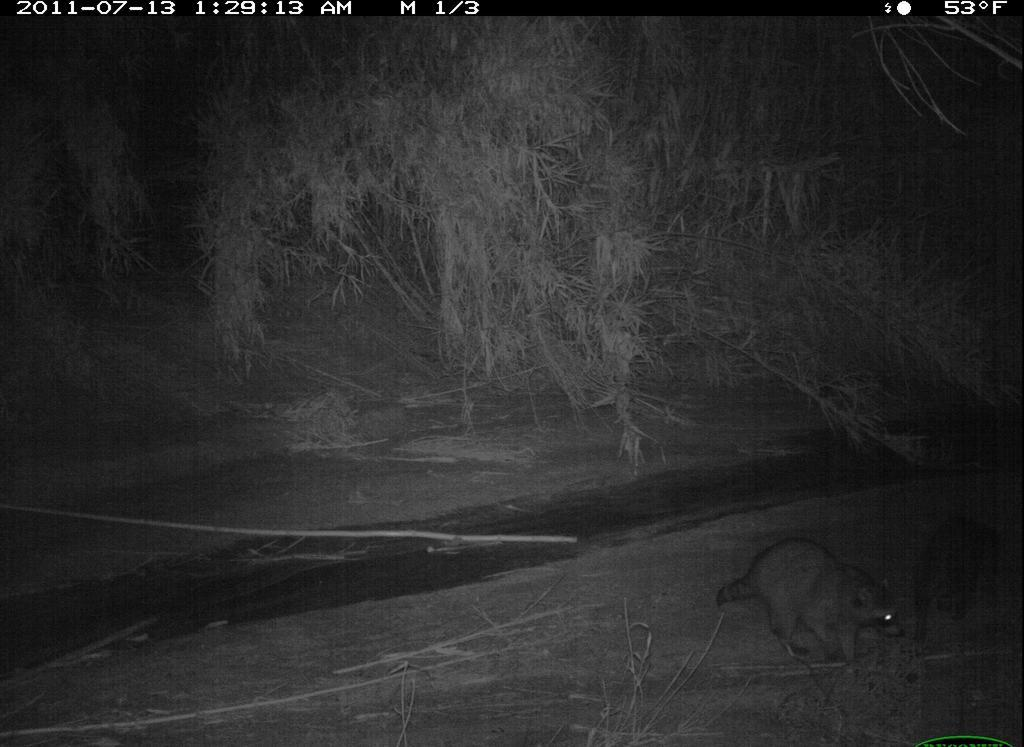raccoon: (711, 525, 914, 684)
